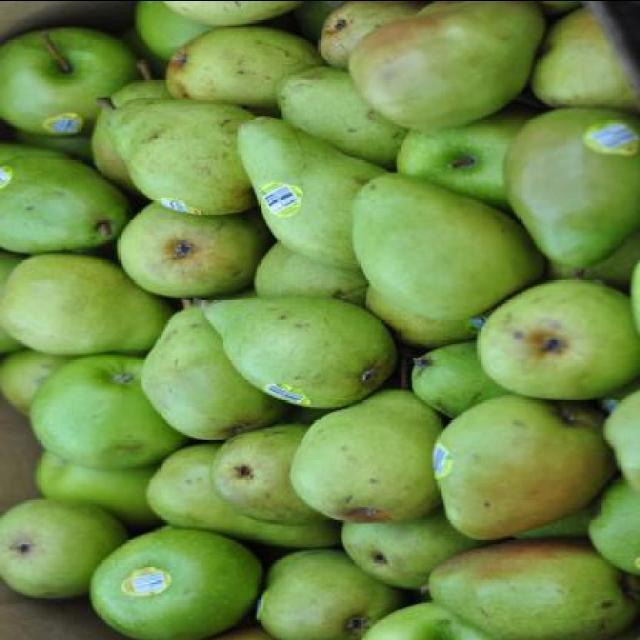Apple pie: (33, 350, 187, 470), (96, 531, 268, 637), (394, 97, 546, 206), (0, 26, 144, 138), (357, 598, 509, 640)
